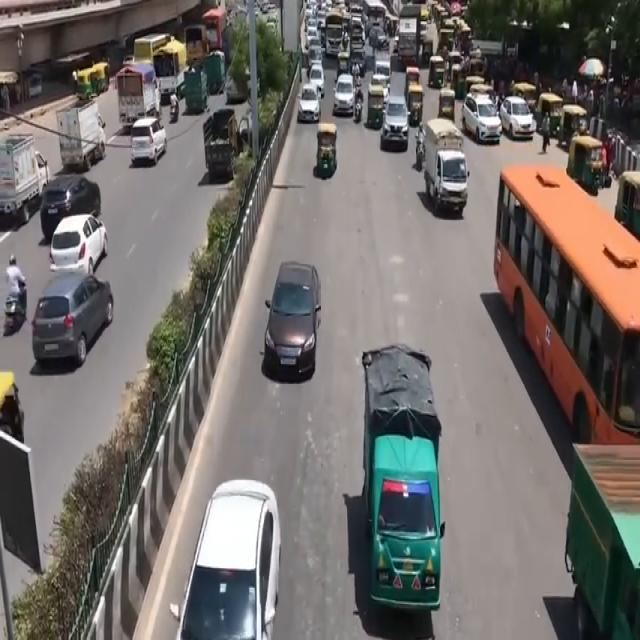BUS: (493, 162, 639, 518)
TRUCK: (0, 130, 46, 234), (424, 119, 470, 216)
